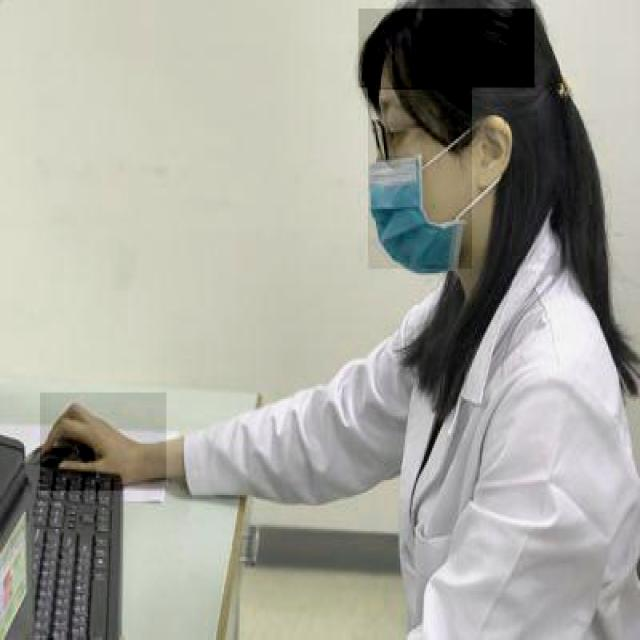face_mask: (368, 87, 474, 271)
glasses: (364, 111, 402, 162)
hand_noglove: (40, 392, 168, 493)
head_nohelmet: (358, 9, 536, 90)
person: (130, 0, 638, 638)
